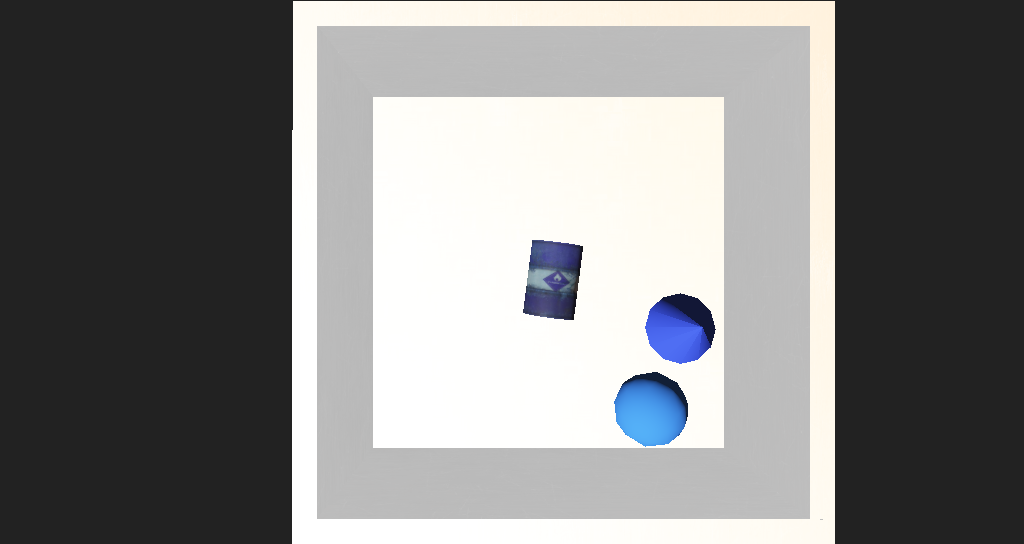cone: (478, 248, 532, 296)
cylinder: (593, 279, 660, 332)
sphere: (563, 332, 623, 375)
